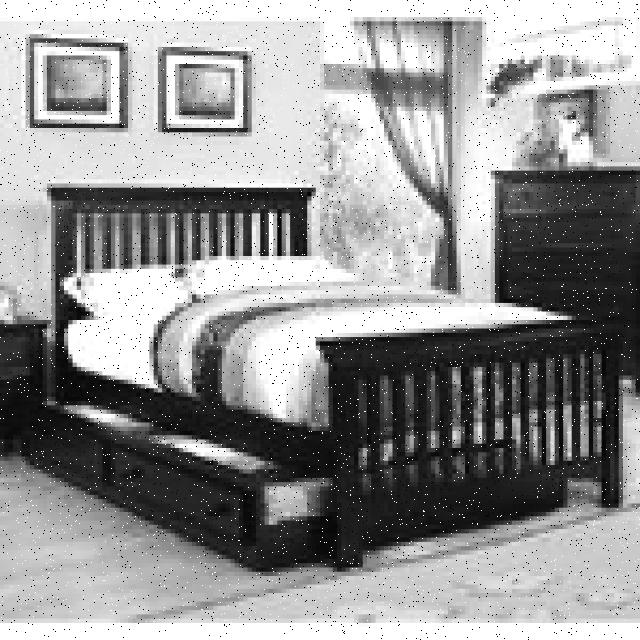bed: (43, 182, 606, 520)
